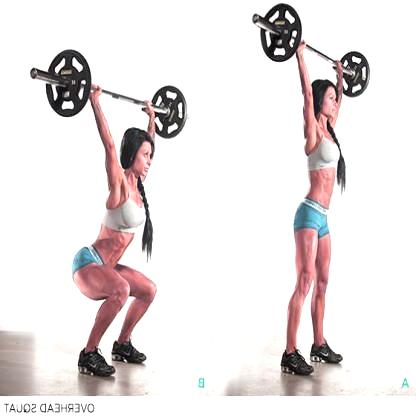Barbell: (26, 65, 39, 83), (249, 12, 258, 28)
